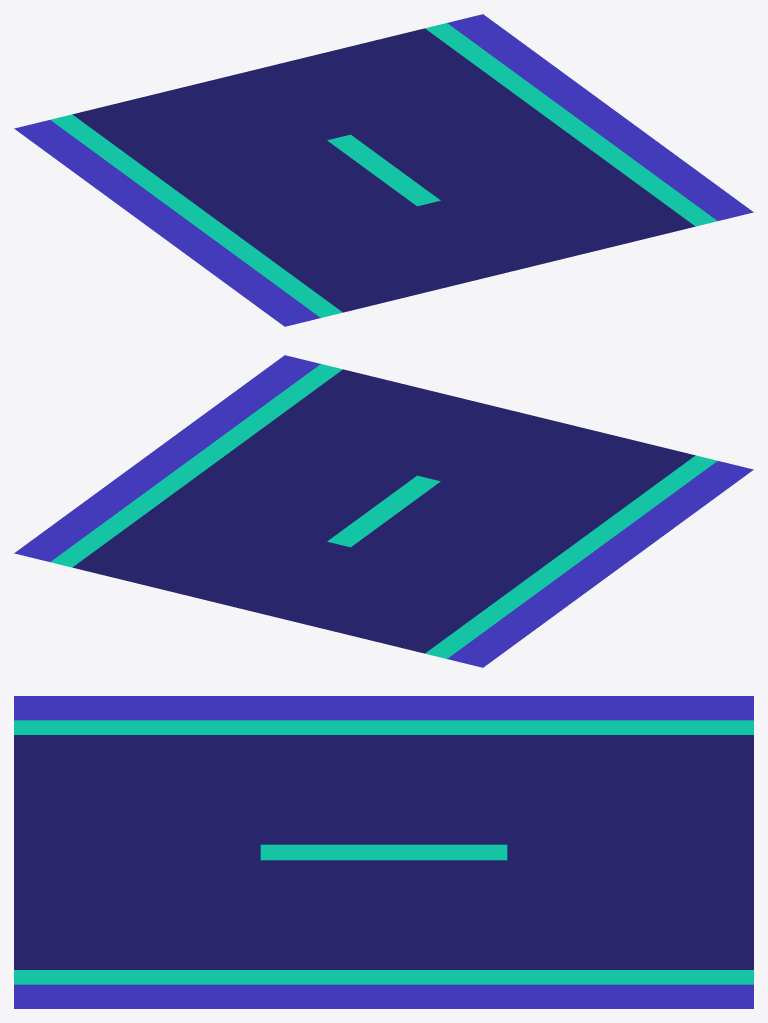
File: SM_Road.fbx
3 renders of one model, top to bottom at view 1: azimuth 30°, elevation 25°; view 2: azimuth 150°, elevation 25°; view 3: azimuth 270°, elevation 25°, orthographic. The views are drawn at different scales.
Visible parts, largest first — view 1: Plane.019; view 2: Plane.019; view 3: Plane.019.
Boxes of the visible parts, x1,y1,x2,y2 form: Plane.019: (14, 14, 753, 326); Plane.019: (14, 355, 753, 667); Plane.019: (14, 696, 753, 1008).
Size of the model in its own units: 3 by 7.11e-15 by 3.
